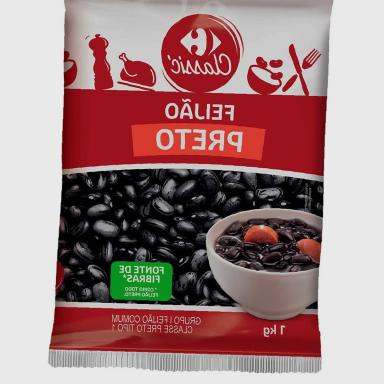beans package: (50, 0, 332, 372)
